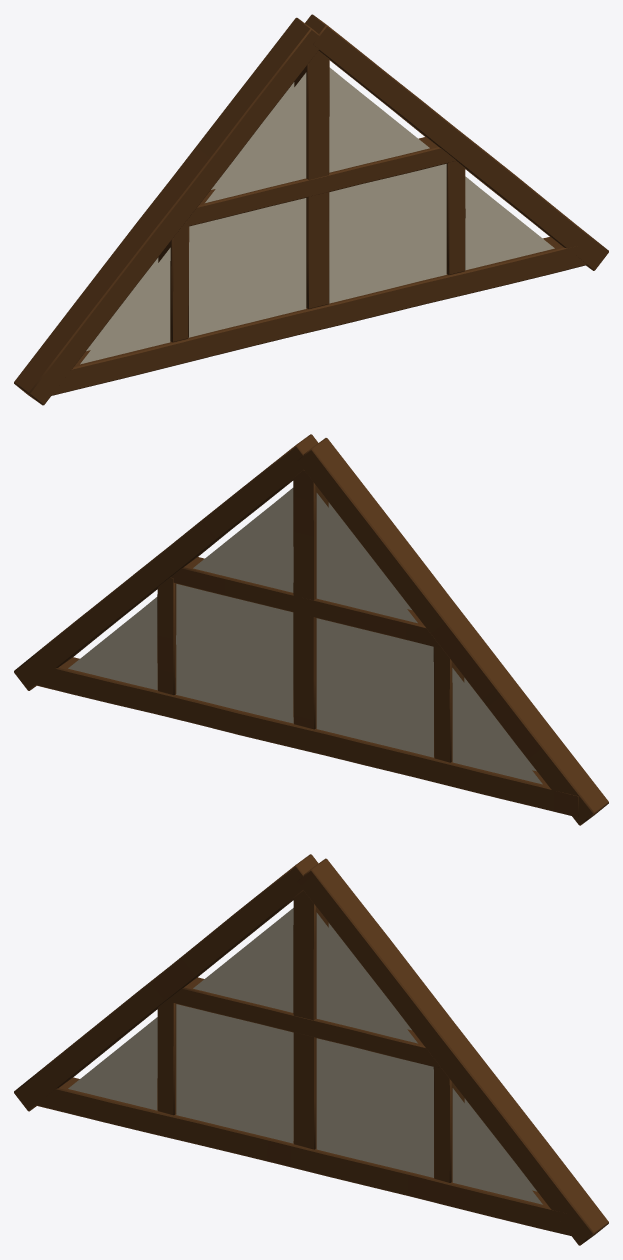
Rendered from giebel.glb.
3 renders of one model, top to bottom at view 1: azimuth 30°, elevation 25°; view 2: azimuth 150°, elevation 25°; view 3: azimuth 330°, elevation 25°, orthographic.
Visible parts, largest first — view 1: giebel; view 2: giebel; view 3: giebel.
Boxes of the visible parts, box(x1,y1,x2,y2) form: giebel: box(14, 14, 608, 405); giebel: box(14, 434, 608, 825); giebel: box(14, 854, 608, 1245).
Bounding box in the file's own units: 4.2 × 2.15 × 0.2041.
